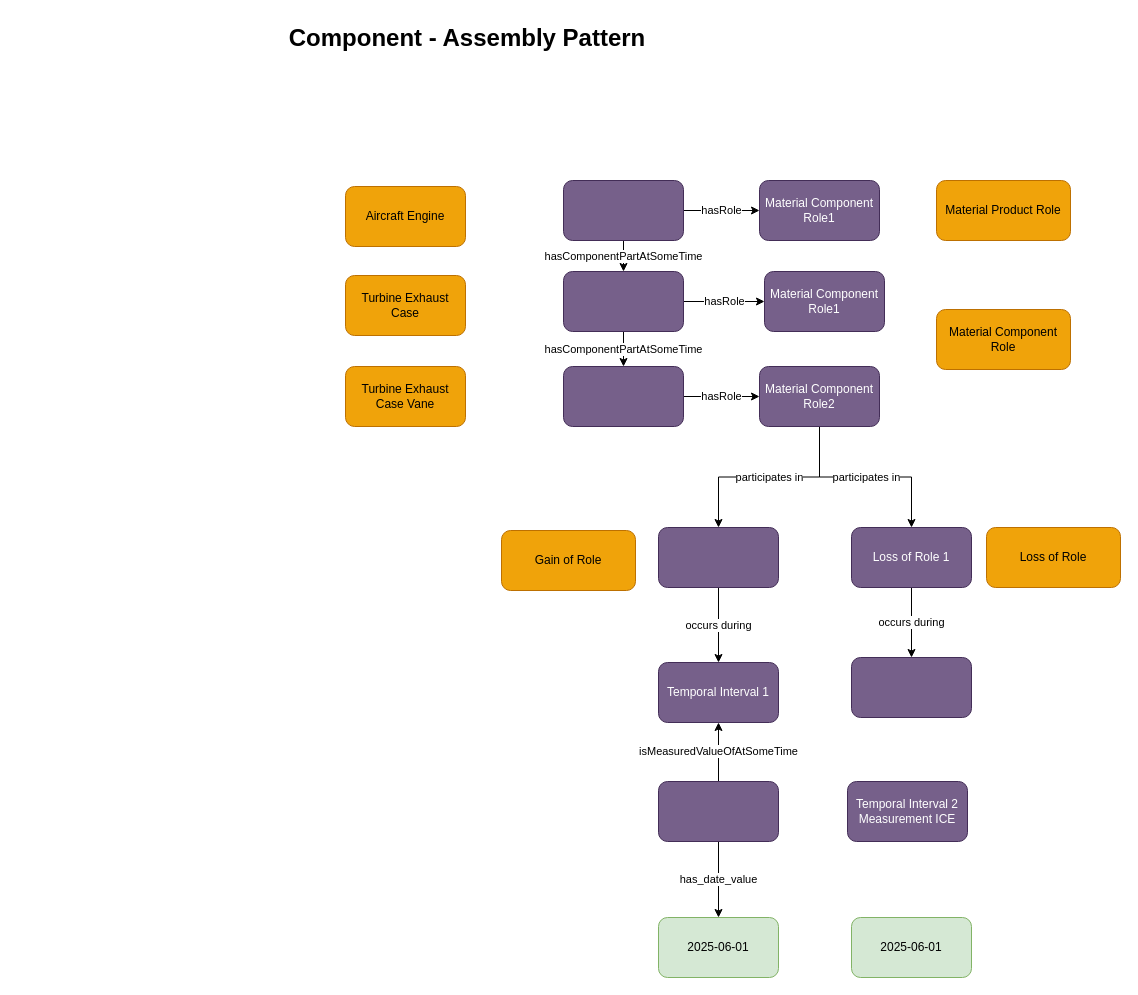
This 1138x995 diagram has some shape labels left out. The box of each missing label's shape, as (x1, y1, x2, y2) in pixels:
Aircraft Engine E1234: (562, 180, 684, 240)
Gain of Role 1: (658, 526, 778, 588)
Temporal Interval 1 Measurement ICE: (658, 780, 778, 842)
Temporal Interval 2: (850, 656, 972, 718)
Turbine Exhaust Case 1: (562, 270, 684, 332)
Turbine Exhaust Case Vane1: (562, 366, 684, 426)
